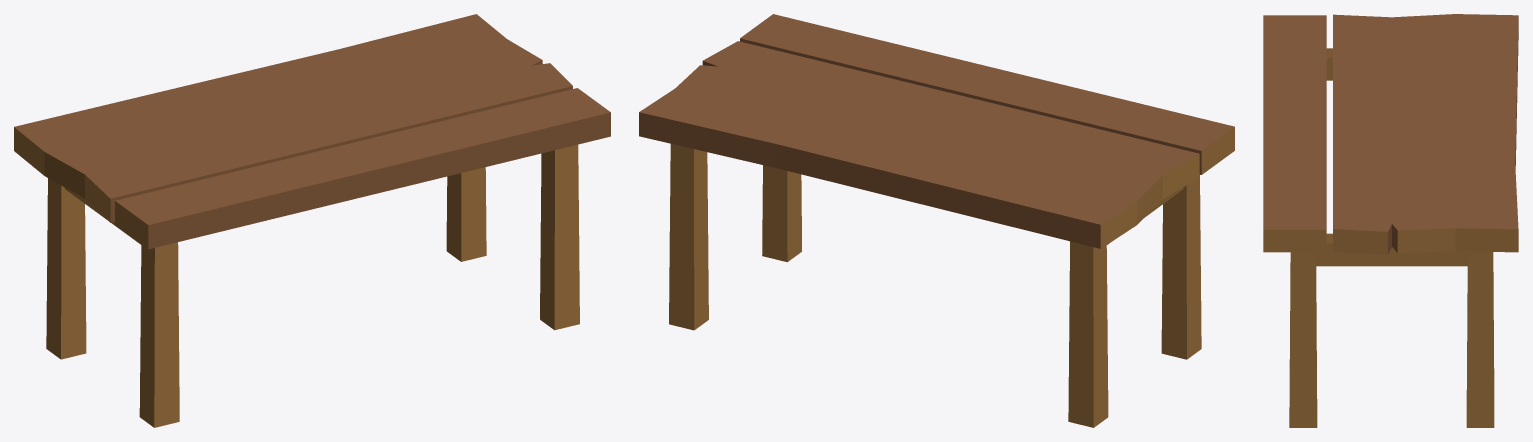
The model's file is table-wood.glb.
3 views of the same model, side by side, from view 1: azimuth 30°, elevation 25°; view 2: azimuth 150°, elevation 25°; view 3: azimuth 270°, elevation 25° (orthographic). The views are drawn at different scales.
Visible parts, largest first — view 1: table-wood; view 2: table-wood; view 3: table-wood.
Part boxes in pixels (<box>): table-wood: <box>14,14,610,427</box>; table-wood: <box>639,14,1234,427</box>; table-wood: <box>1263,14,1518,427</box>.
Size of the model in its own units: 2.04 by 0.9 by 1.01.
1 material, 1 textured.
